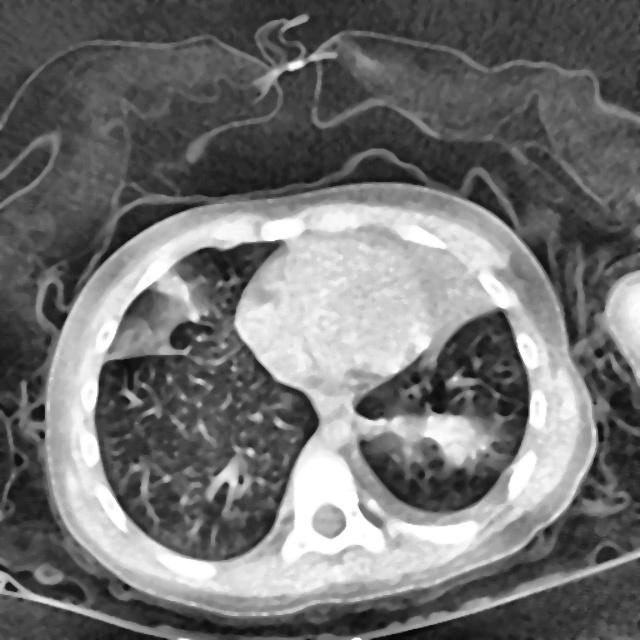covid: (42, 178, 598, 626)
